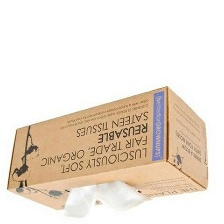book: (1, 81, 213, 213)
tissue: (55, 175, 157, 224)
